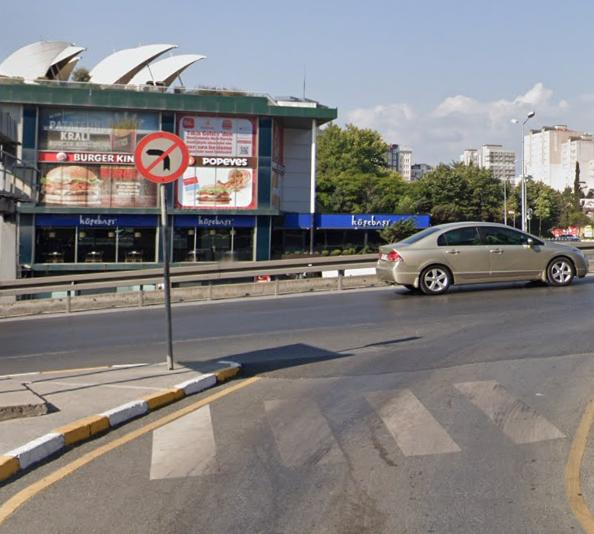leftturnsareforbidden: (134, 132, 189, 186)
